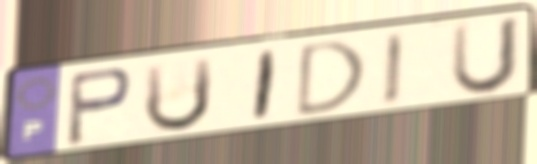D: (292, 37, 370, 122)
I: (249, 47, 282, 126), (380, 29, 409, 110)
P: (63, 65, 137, 149)
U: (447, 13, 526, 98), (140, 54, 217, 136)
